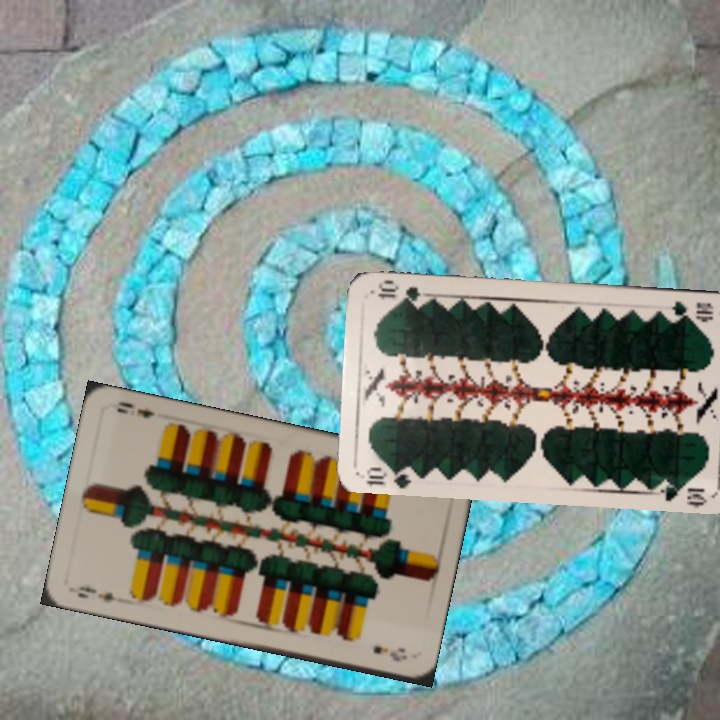E9: (73, 581, 118, 605)
G10: (362, 461, 418, 490), (668, 297, 716, 322)
